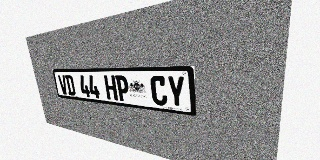4: (87, 75, 100, 98), (78, 75, 91, 97)
C: (150, 76, 168, 106)
D: (65, 75, 76, 96)
H: (104, 75, 118, 100)
P: (115, 75, 130, 102)
V: (58, 75, 69, 95)
Y: (166, 76, 186, 108)
